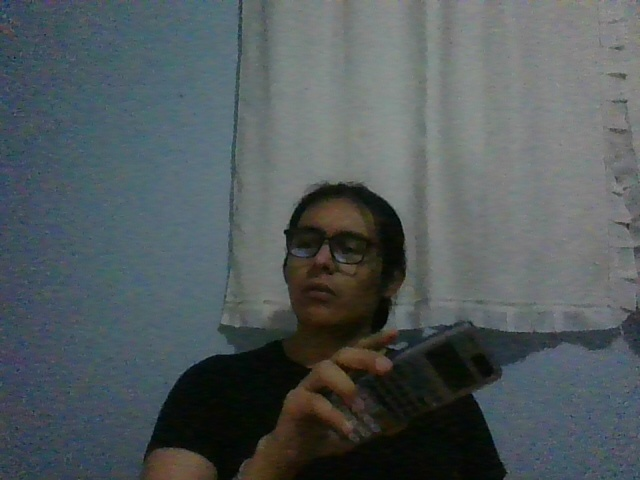calculadora: (328, 321, 503, 446)
